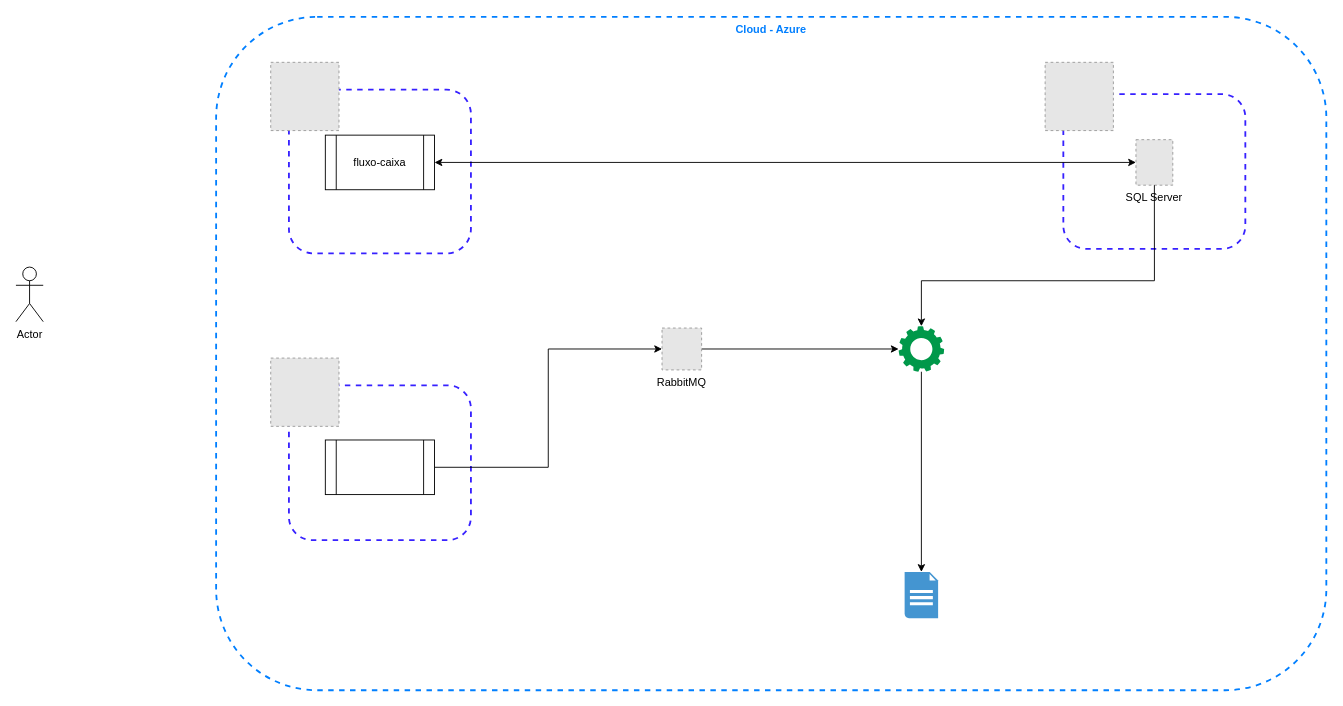
Some shapes in this 1343 by 706 pixel diagram are drawn without their labels. Grey dashed boxes stand in for pictures. The box of each missing label's shape, as (x1, y1, x2, y2) in pixels:
Download Retório Saldo diário consolidado: (904, 571, 938, 618)
Processar Relatório: (898, 326, 944, 371)
relatorio: (324, 439, 435, 495)
